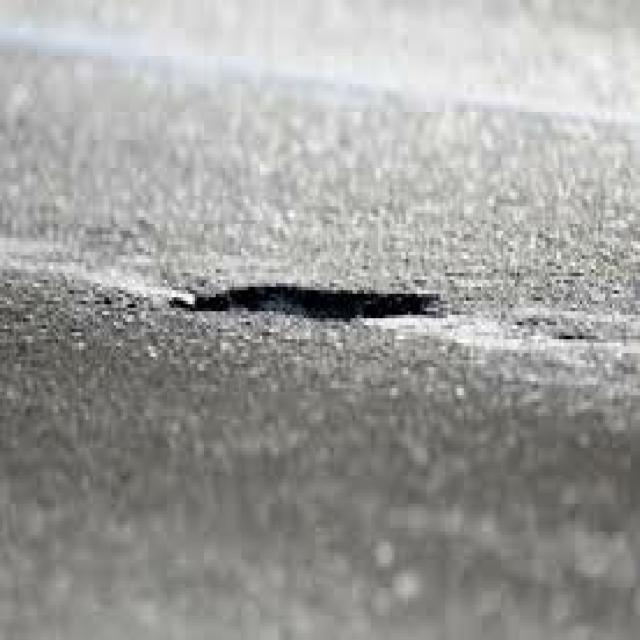Pothole: (165, 255, 480, 409)
